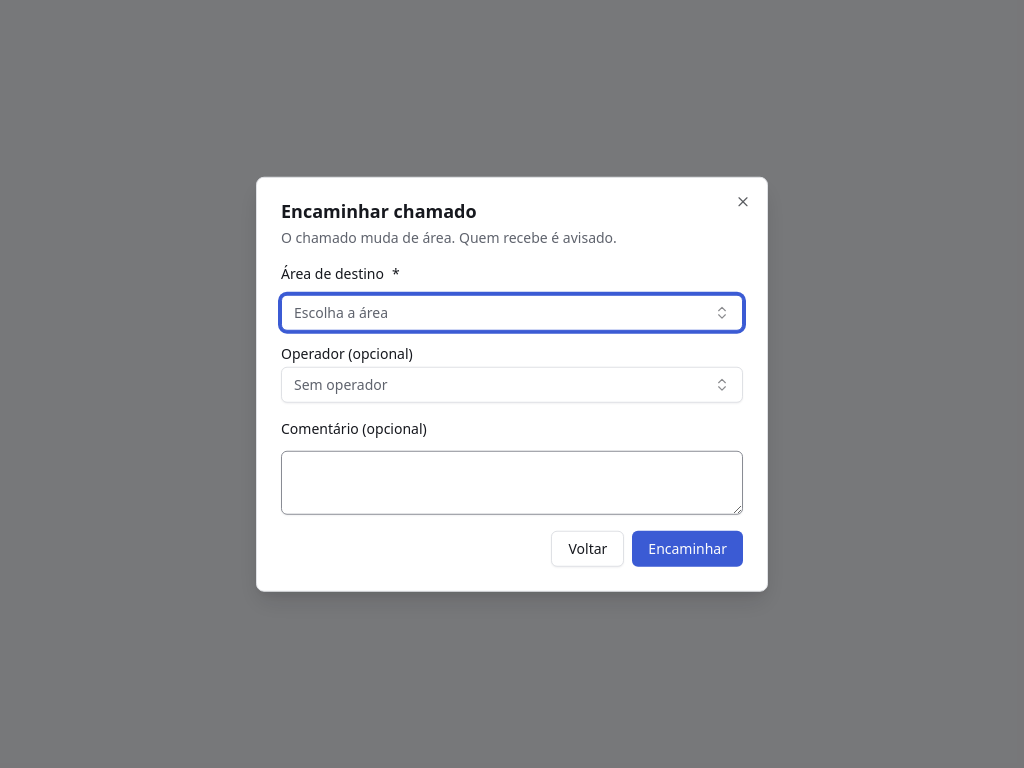
Test case: Encaminhar › sem área escolhida, não envia e mostra o erro do campo
Step 1. Click the button "Encaminhar" → click(688, 548), box [632,530,743,566]
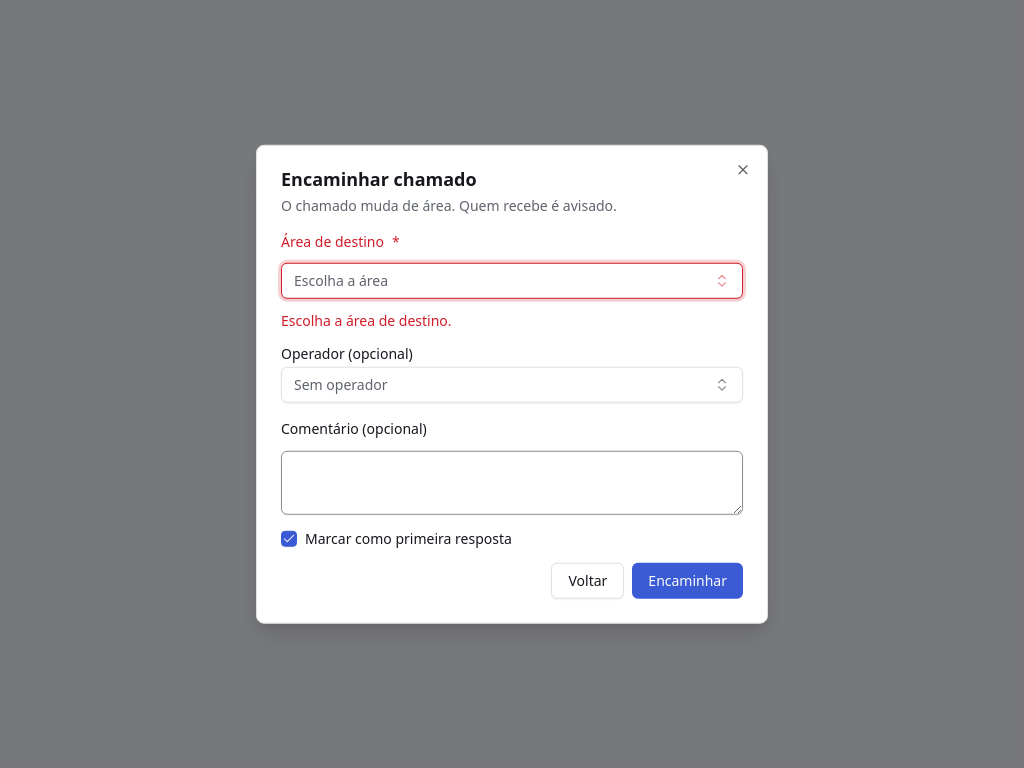
expect the text "Escolha a área de destino." is shown: met, box [281,311,452,330]
